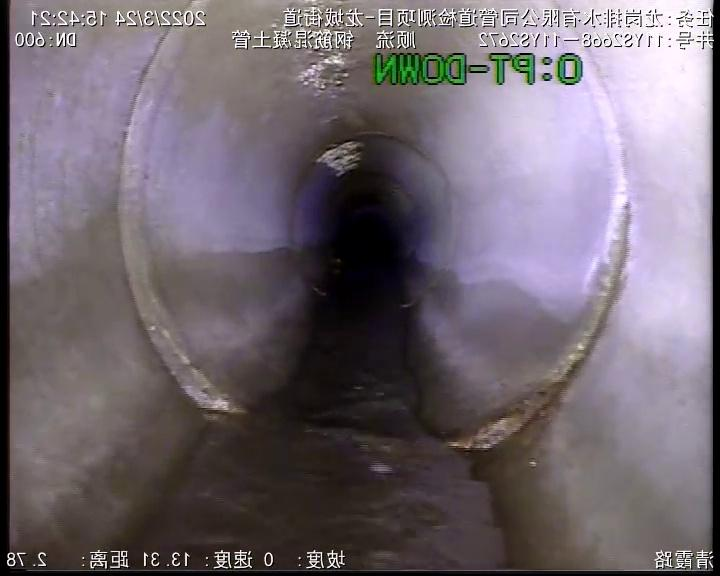CKTJ: (450, 60, 630, 450), (119, 37, 247, 417)
